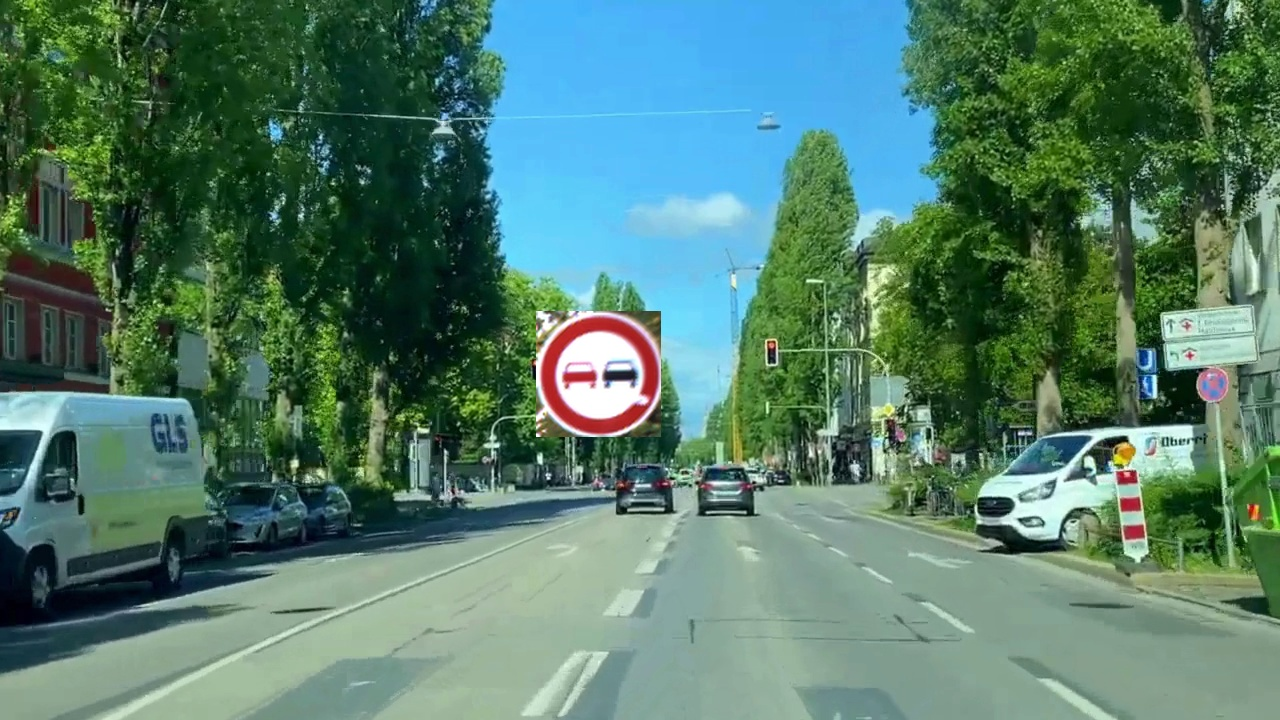No passing: (536, 311, 661, 437)
